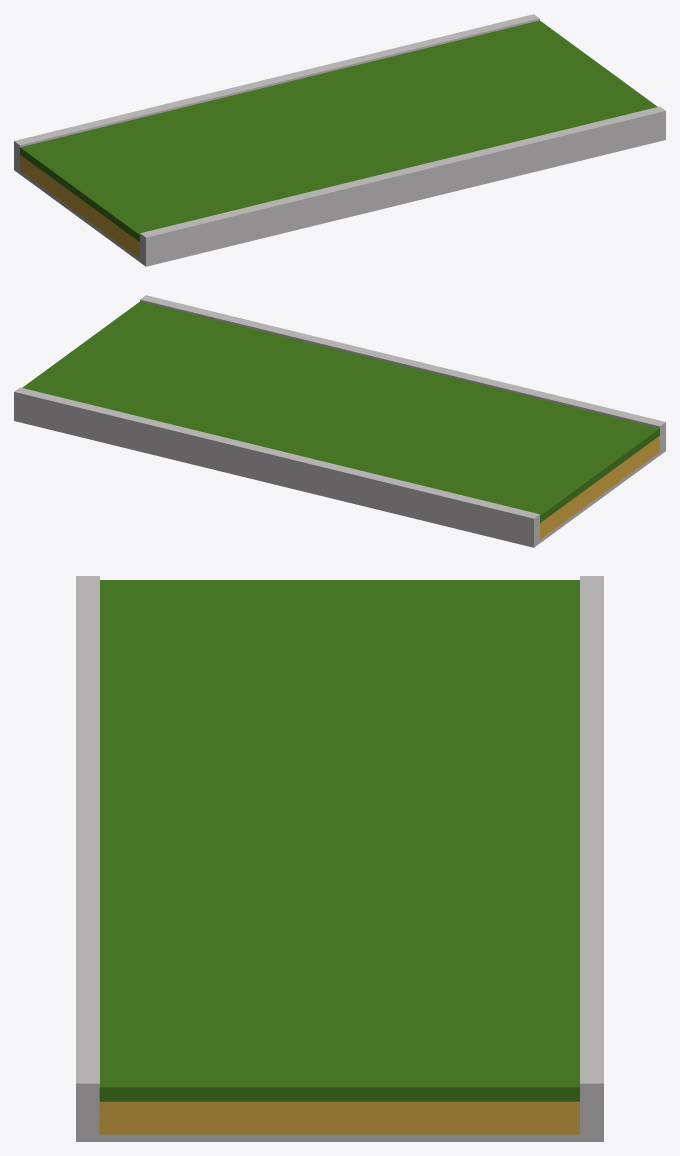
The model's file is Grass3.0.fbx.
3 renders of one model, top to bottom at view 1: azimuth 30°, elevation 25°; view 2: azimuth 150°, elevation 25°; view 3: azimuth 270°, elevation 25°, orthographic. The views are drawn at different scales.
Visible parts, largest first — view 1: Cube, Cube.001, Cube.002; view 2: Cube, Cube.002, Cube.001; view 3: Cube, Cube.001, Cube.002.
Boxes of the visible parts, <box> form: Cube: <box>20,20,657,261</box>; Cube.001: <box>140,106,665,266</box>; Cube.002: <box>14,14,539,174</box>; Cube: <box>22,301,659,542</box>; Cube.002: <box>14,387,539,547</box>; Cube.001: <box>140,295,665,455</box>; Cube: <box>99,580,579,1141</box>; Cube.001: <box>76,576,99,1141</box>; Cube.002: <box>580,576,603,1141</box>.
Bounding box in the file's own units: 2000 × 107 × 880.
